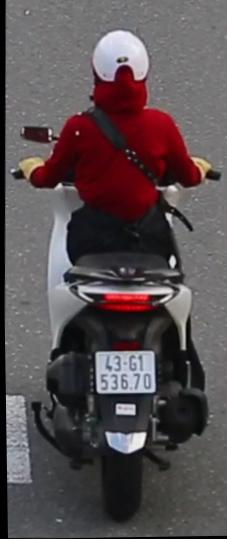LP: (90, 343, 157, 395)
helmet: (87, 24, 154, 119)
